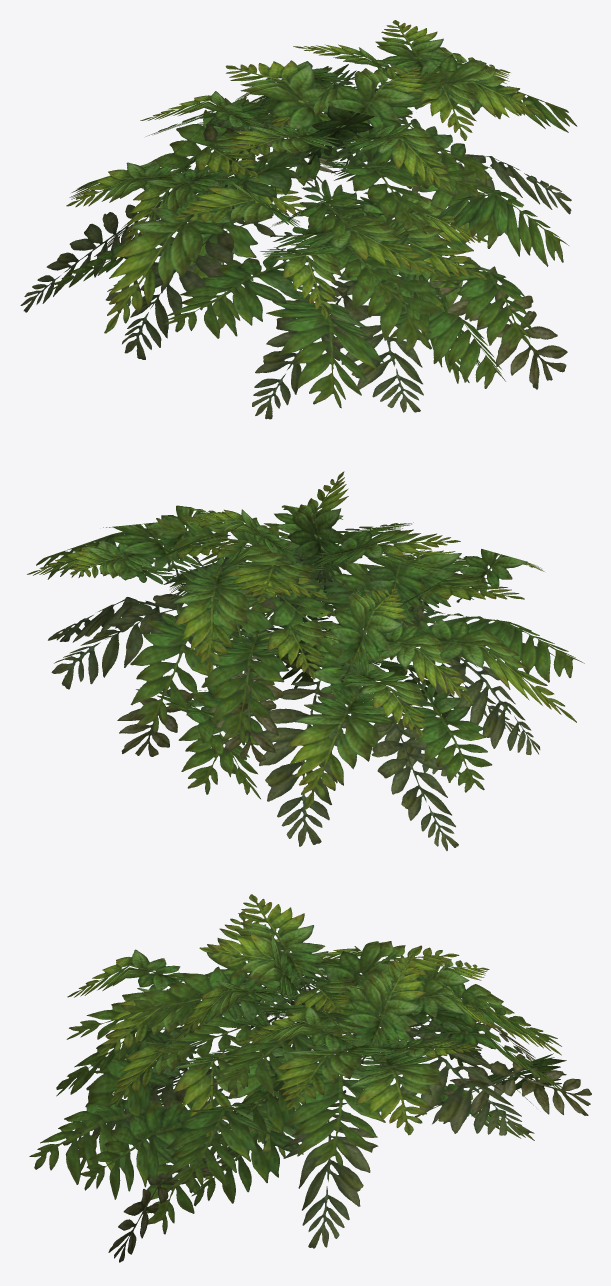
Rendered from S_Tree_Green039.FBX.
3 views of the same model, one above another, from view 1: azimuth 30°, elevation 25°; view 2: azimuth 150°, elevation 25°; view 3: azimuth 270°, elevation 25° (orthographic).
Visible parts, largest first — view 1: S_Tree_Green039; view 2: S_Tree_Green039; view 3: S_Tree_Green039.
Boxes of the visible parts, x1,y1,x2,y2 form: S_Tree_Green039: (20,20,577,419); S_Tree_Green039: (27,471,584,850); S_Tree_Green039: (29,894,591,1262).
Size of the model in its own units: 222 by 114 by 212.
